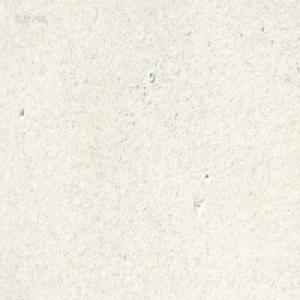Washer: (148, 69, 154, 81)
